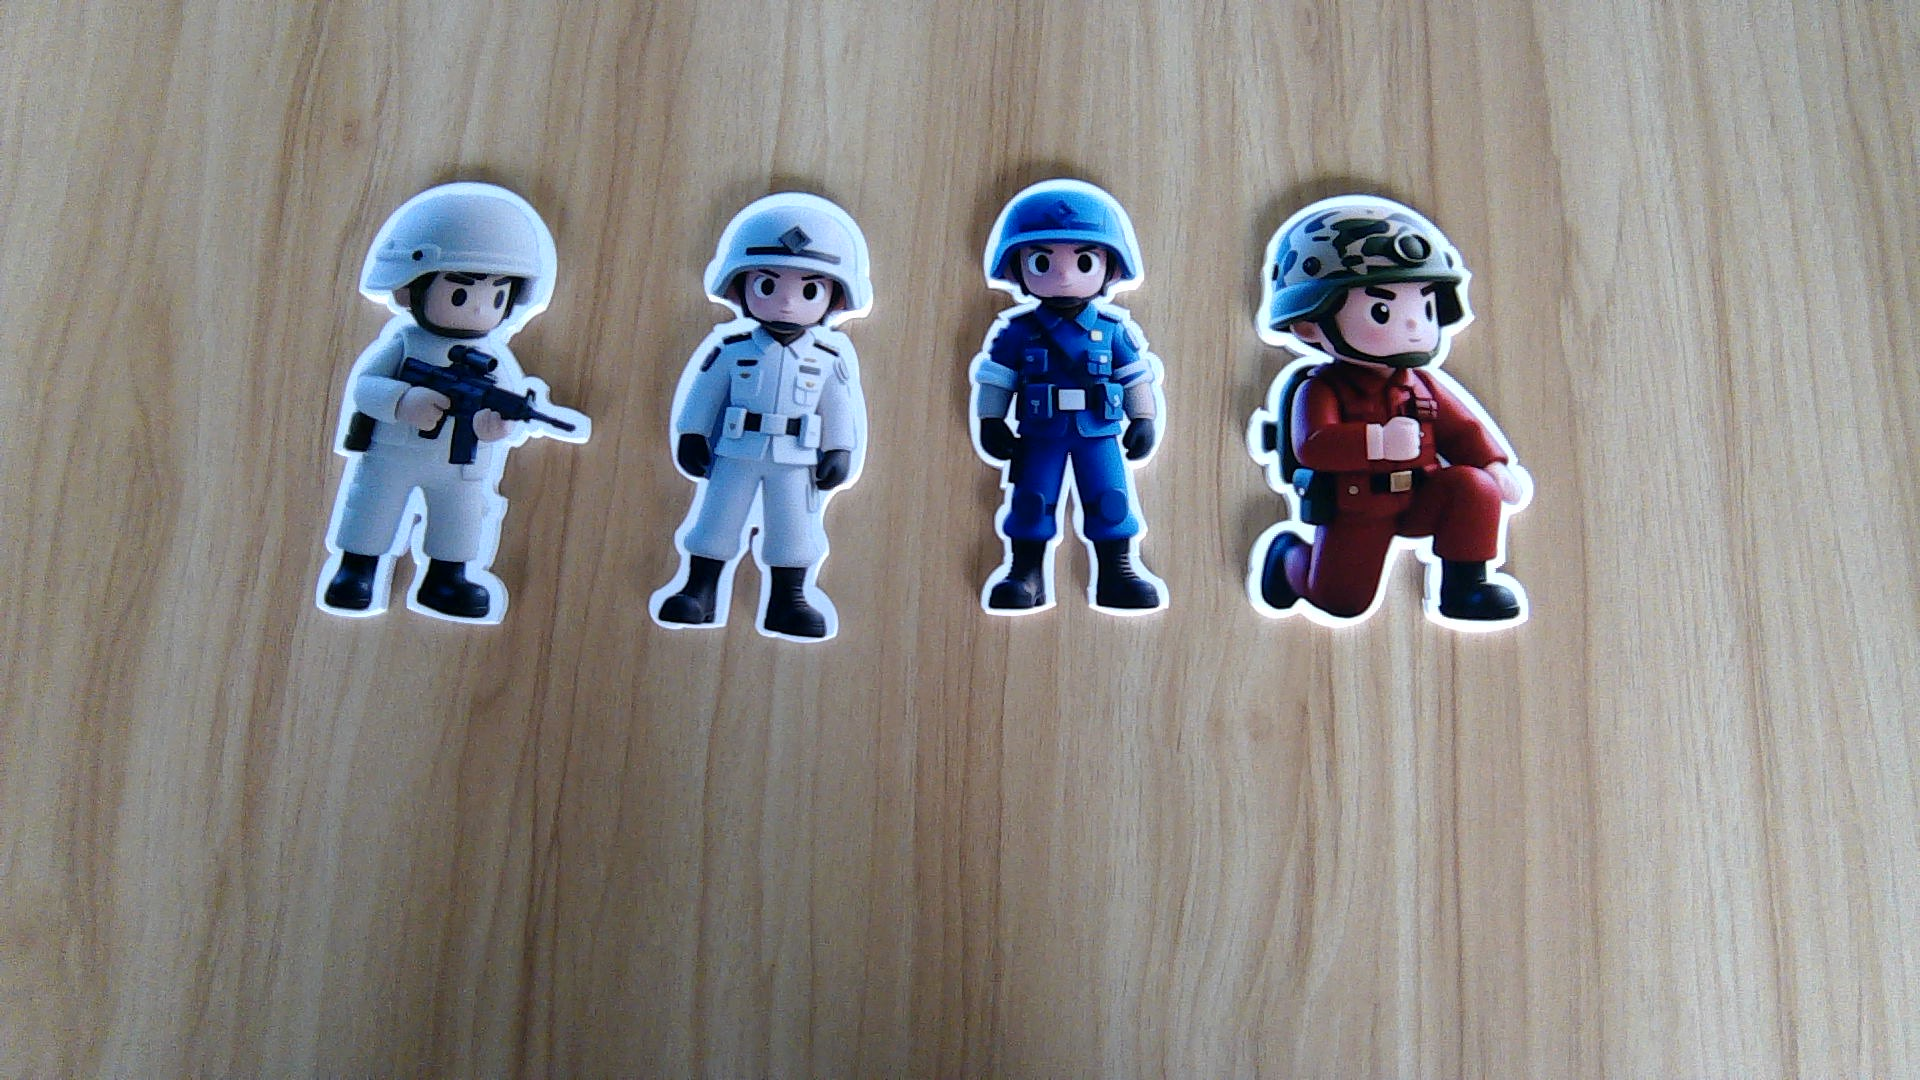人质: (314, 336, 587, 636), (647, 327, 869, 645)
敌人1: (1229, 367, 1532, 636)
敌人2: (956, 303, 1178, 618)
